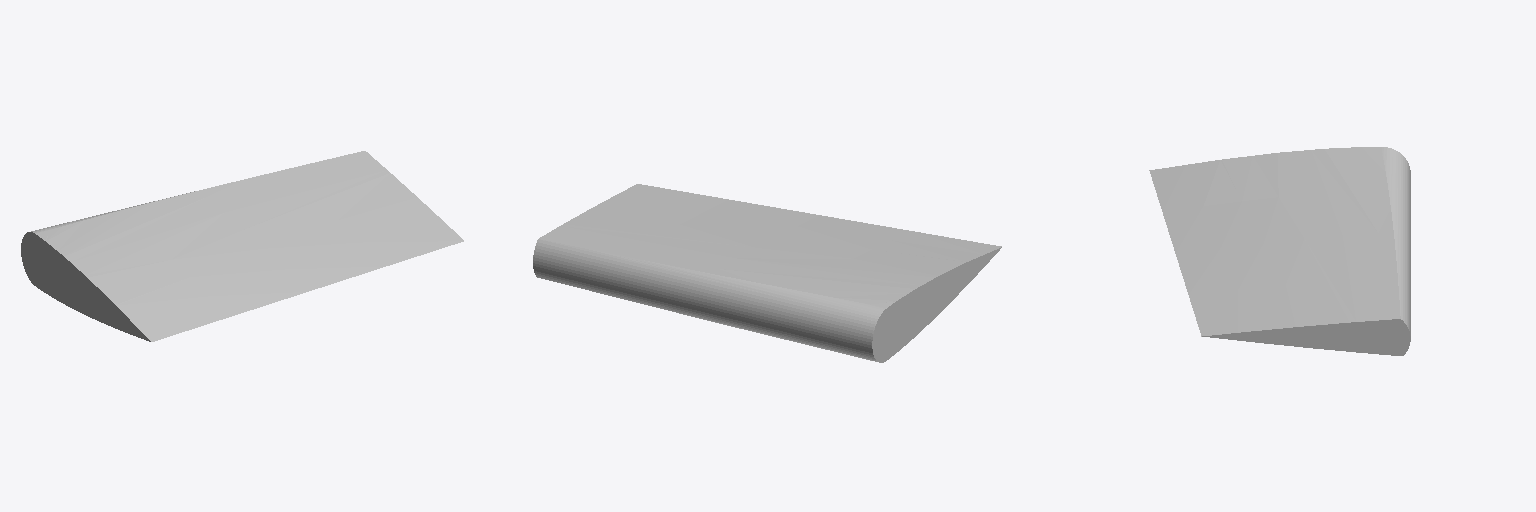
File: RightAileron.obj
The picture shows the model from 3 angles: view 1: azimuth 30°, elevation 25°; view 2: azimuth 150°, elevation 25°; view 3: azimuth 270°, elevation 25°; orthographic projection.
Visible parts, largest first — view 1: mesh3.001, mesh0.001; view 2: mesh3.001, mesh1.001, mesh0.001; view 3: mesh3.001, mesh4.001, mesh1.001.
Part boxes in pixels (left/top/right/bottom): mesh3.001: left=36, top=151, right=463, bottom=341; mesh0.001: left=21, top=232, right=150, bottom=341; mesh3.001: left=539, top=184, right=1001, bottom=307; mesh1.001: left=533, top=239, right=886, bottom=361; mesh0.001: left=872, top=247, right=1001, bottom=362; mesh3.001: left=1149, top=147, right=1400, bottom=336; mesh4.001: left=1202, top=319, right=1410, bottom=355; mesh1.001: left=1382, top=147, right=1410, bottom=335.
Size of the model in its own units: 1.94 by 0.2884 by 1.3.